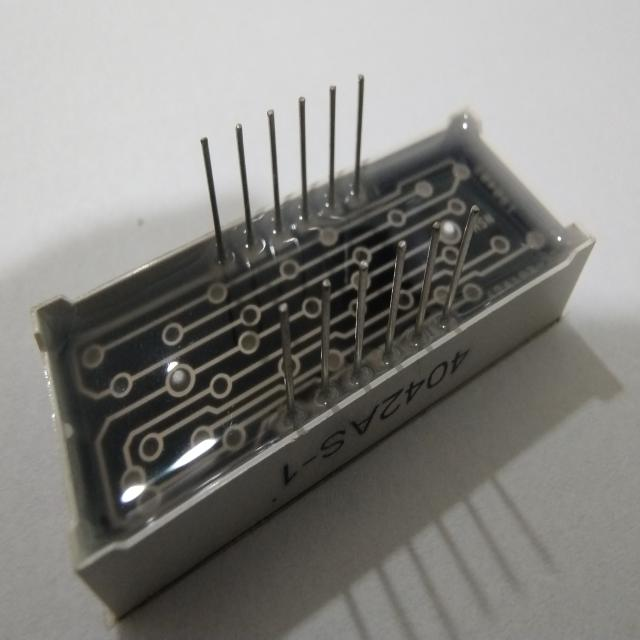7_segments_4_digits: (0, 59, 607, 620)
